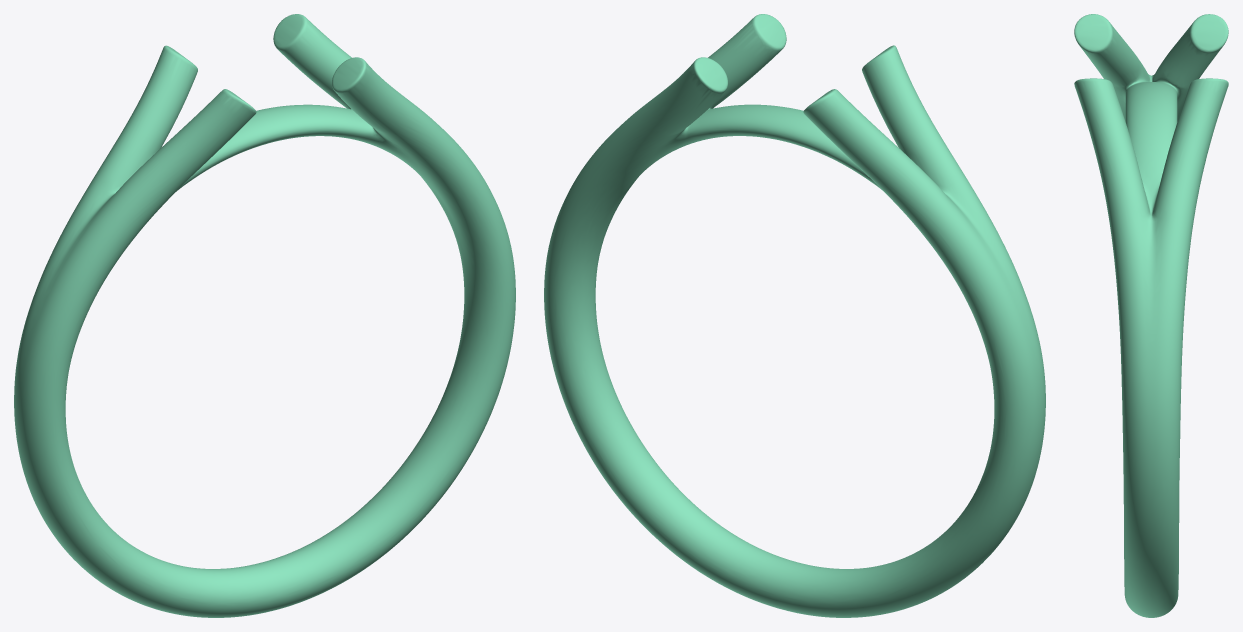
The picture shows the model from 3 angles, left to right: view 1: azimuth 30°, elevation 25°; view 2: azimuth 150°, elevation 25°; view 3: azimuth 270°, elevation 25°; orthographic projection.
Visible parts, largest first — view 1: Metal02; view 2: Metal02; view 3: Metal02.
Boxes of the visible parts, left/top/right/bottom form: Metal02: left=14, top=14, right=515, bottom=617; Metal02: left=544, top=14, right=1045, bottom=617; Metal02: left=1074, top=14, right=1228, bottom=617.
Size of the model in its own units: 20.9 by 22.54 by 5.78.
